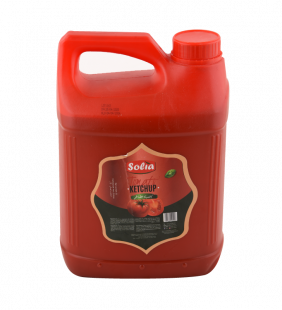SOLIA: (56, 29, 230, 279)
